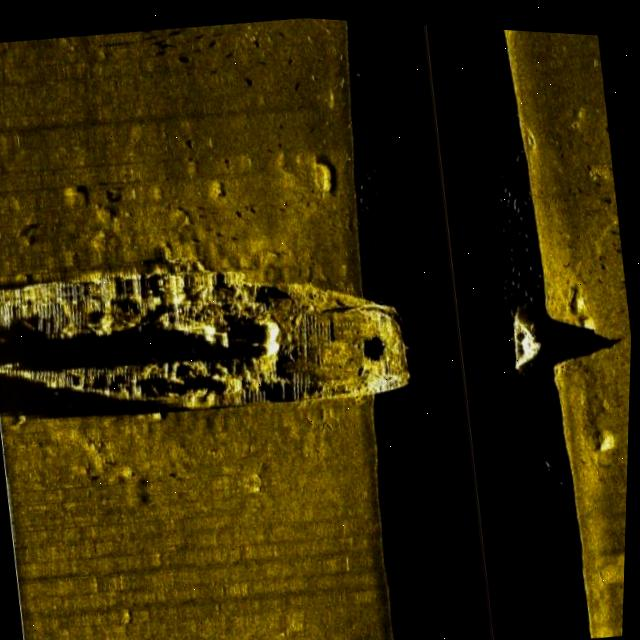shipwreck: (0, 220, 414, 445)
